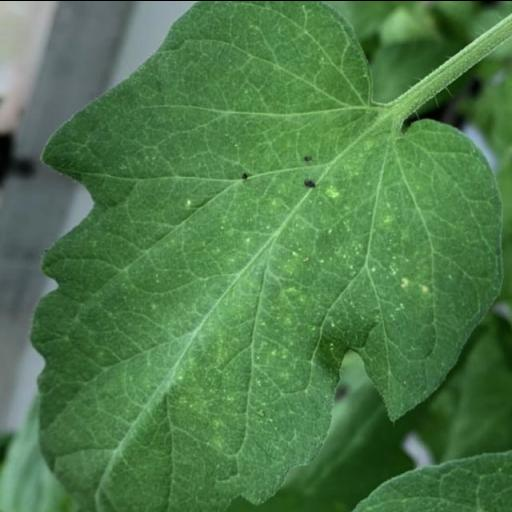Spider Mites: (27, 0, 512, 512)
